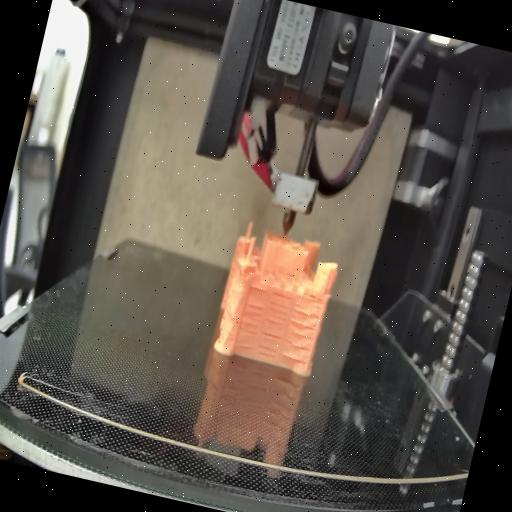cracks: (282, 305, 322, 363), (232, 302, 266, 354), (265, 289, 296, 328), (254, 330, 284, 362), (243, 280, 269, 298)
